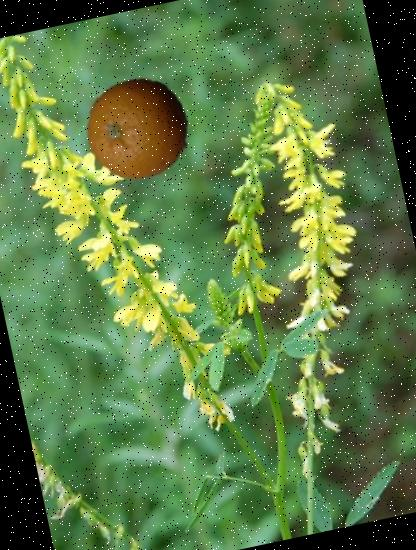Orange: (77, 68, 200, 190)
